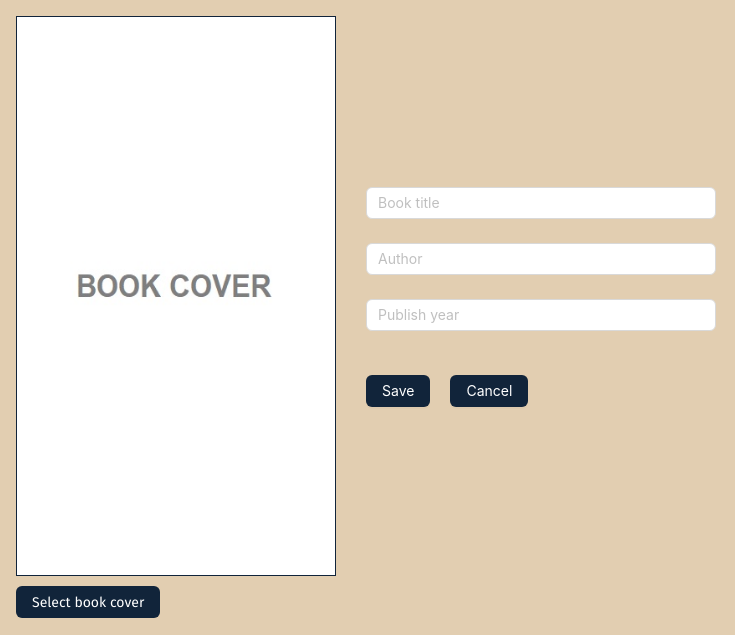
Test case: buttons behaviour › error when try to submit empty input
The width and height of the screenshot is (735, 635).
Click the button "Save" at (398, 390), box [366,374,430,406]
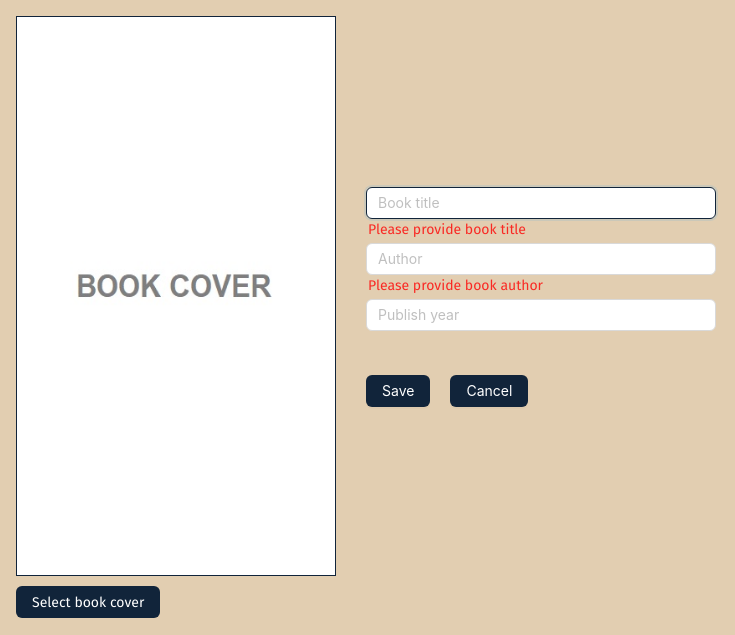
expect the text "Please provide book title" is shown: met, box [366,218,528,240]
expect the text "Please provide book author" is shown: met, box [366,274,545,296]
